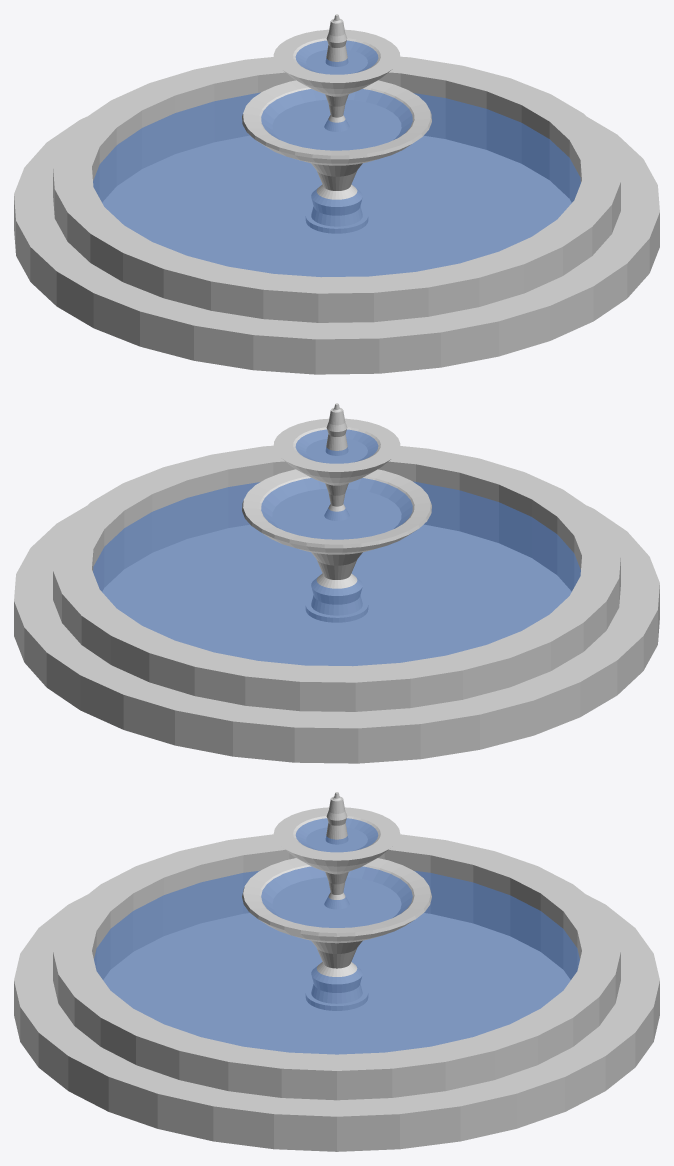
Rendered from coinfountain.glb.
3 renders of one model, top to bottom at view 1: azimuth 30°, elevation 25°; view 2: azimuth 150°, elevation 25°; view 3: azimuth 270°, elevation 25°, orthographic.
Parts seen in each view (by area): view 1: Water_fountain_base, Water_fountain_water_bottom, Water_fountain_tower, Water_fountain_water_middle, Water_fountain_water_top; view 2: Water_fountain_base, Water_fountain_water_bottom, Water_fountain_tower, Water_fountain_water_middle, Water_fountain_water_top; view 3: Water_fountain_base, Water_fountain_water_bottom, Water_fountain_tower, Water_fountain_water_middle, Water_fountain_water_top.
Part boxes in pixels (x1=…): Water_fountain_base: x1=14, y1=56, x2=659, y2=374; Water_fountain_water_bottom: x1=93, y1=92, x2=580, y2=276; Water_fountain_tower: x1=242, y1=14, x2=431, y2=233; Water_fountain_water_middle: x1=261, y1=89, x2=412, y2=150; Water_fountain_water_top: x1=295, y1=40, x2=378, y2=74; Water_fountain_base: x1=14, y1=445, x2=659, y2=763; Water_fountain_water_bottom: x1=93, y1=481, x2=580, y2=665; Water_fountain_tower: x1=242, y1=403, x2=431, y2=622; Water_fountain_water_middle: x1=261, y1=478, x2=412, y2=539; Water_fountain_water_top: x1=295, y1=429, x2=378, y2=463; Water_fountain_base: x1=14, y1=834, x2=659, y2=1151; Water_fountain_water_bottom: x1=94, y1=870, x2=579, y2=1054; Water_fountain_tower: x1=242, y1=792, x2=431, y2=1010; Water_fountain_water_middle: x1=261, y1=866, x2=412, y2=927; Water_fountain_water_top: x1=296, y1=818, x2=377, y2=852.
Size of the model in its own units: 5 by 1.9 by 5.
